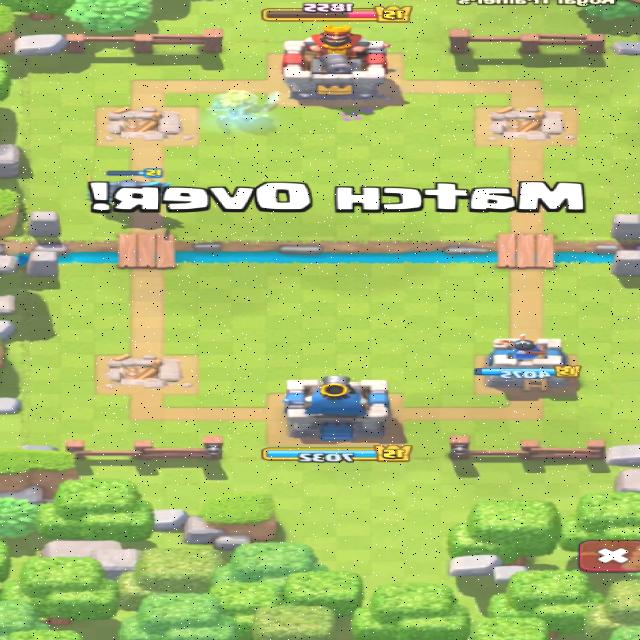Enemy-KingTower-Activated: (282, 24, 387, 99)
Player-KingTower-Activated: (283, 376, 391, 440)
Player-PrincessTower: (476, 334, 582, 392)
Player-RoyalGhost-Invisible: (211, 90, 279, 122)
